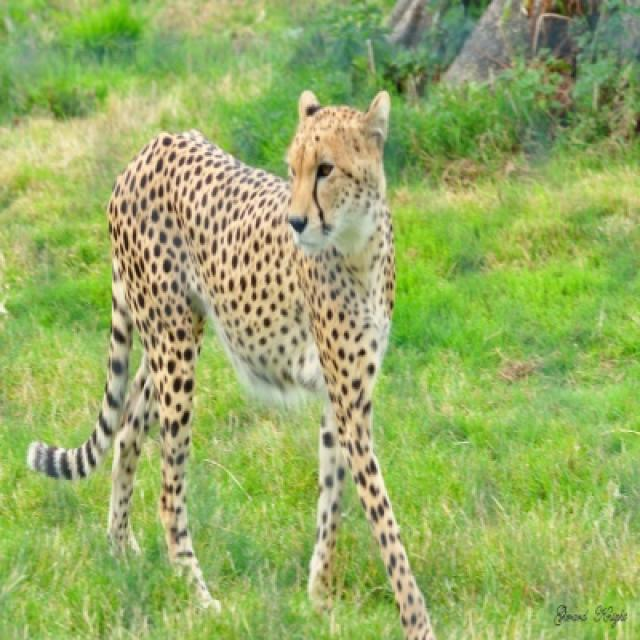Cheetah: (27, 86, 433, 637)
